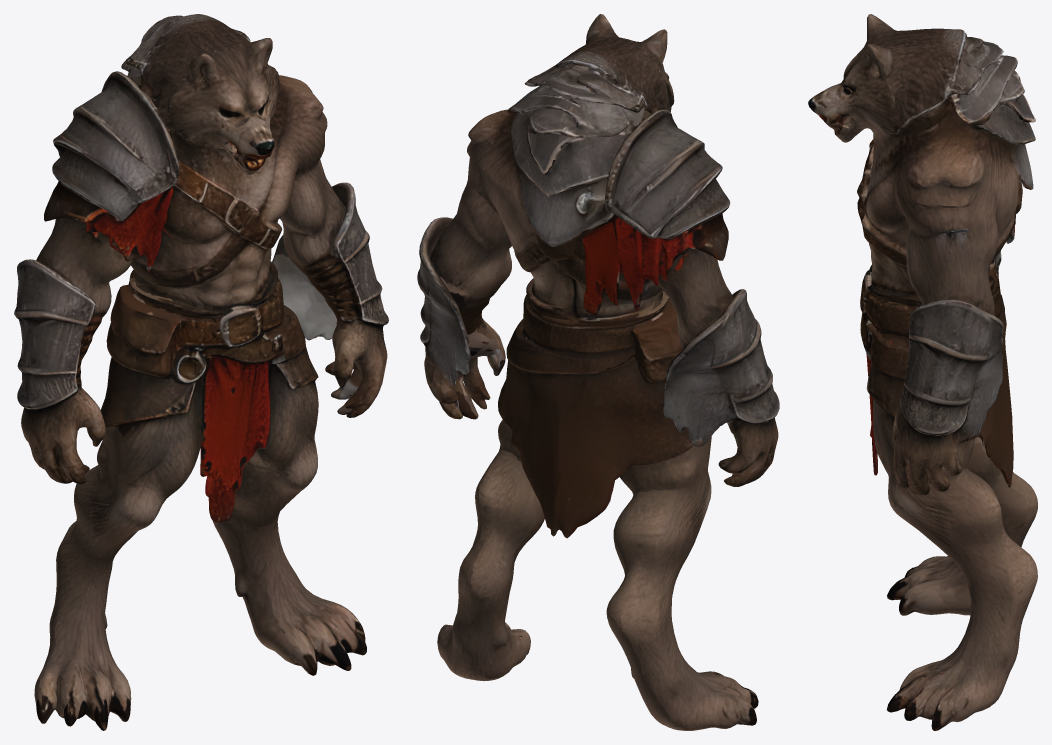
The model's file is wolf-raw.glb.
The picture shows the model from 3 angles, left to right: view 1: azimuth 30°, elevation 25°; view 2: azimuth 150°, elevation 25°; view 3: azimuth 270°, elevation 25°; orthographic projection. The views are drawn at different scales.
Visible parts, largest first — view 1: painted; view 2: painted; view 3: painted.
Boxes of the visible parts, x1,y1,x2,y2 form: painted: (14,14,388,730); painted: (417,14,779,730); painted: (808,14,1037,730).
Bounding box in the file's own units: 1.13 × 1.99 × 0.6587.
1 material, 1 textured.
